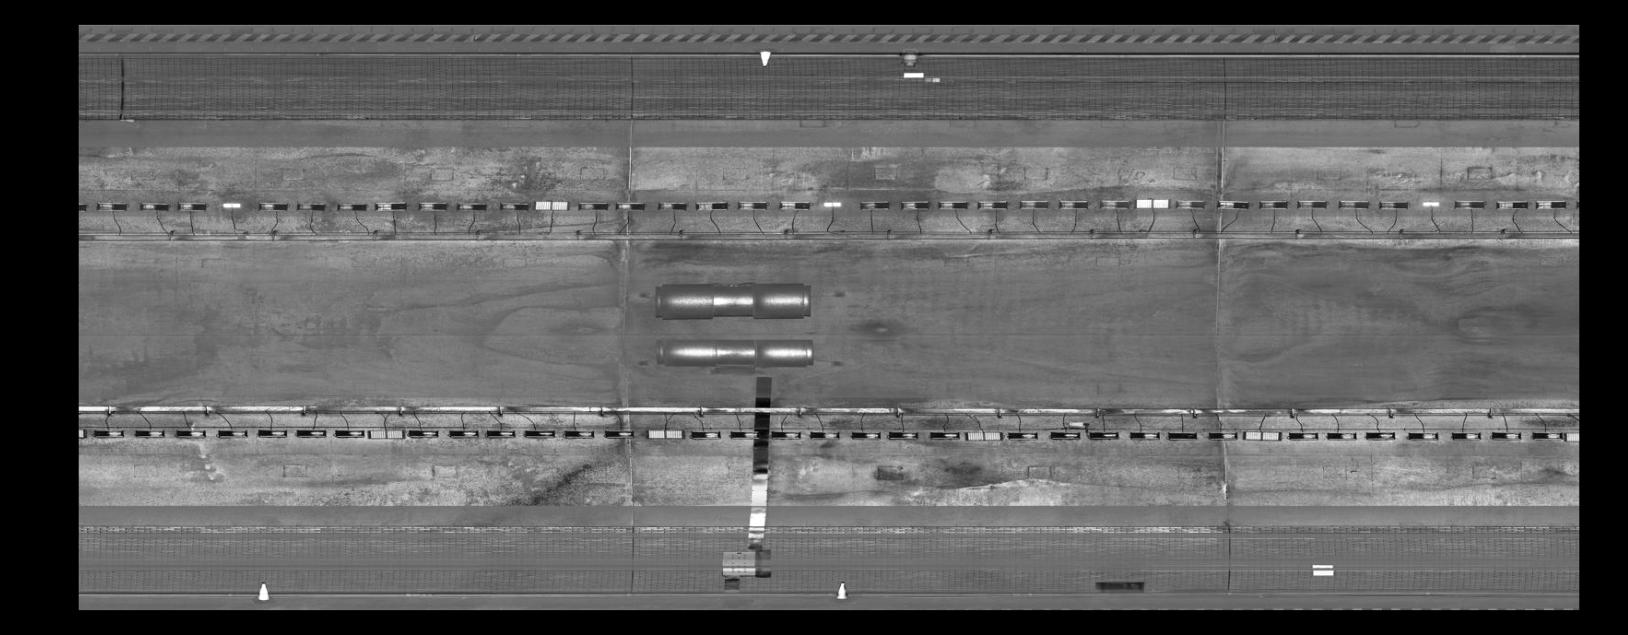light: (1241, 429, 1284, 443), (962, 429, 1004, 443), (643, 427, 685, 441), (370, 199, 409, 214), (367, 427, 407, 441), (1095, 196, 1133, 211), (533, 199, 571, 213), (885, 427, 920, 442), (1086, 427, 1121, 442), (1134, 197, 1171, 211), (691, 199, 731, 212), (574, 199, 610, 213), (1164, 429, 1200, 442), (973, 198, 1011, 211), (454, 199, 489, 213), (1335, 197, 1371, 211), (726, 427, 761, 441), (925, 427, 960, 441), (1205, 427, 1241, 441), (1215, 198, 1252, 211), (1323, 430, 1360, 442), (1360, 429, 1398, 441), (1404, 430, 1441, 442), (1448, 430, 1486, 442), (1488, 429, 1525, 441), (334, 200, 369, 214), (1492, 199, 1532, 211), (768, 429, 803, 442), (1054, 198, 1090, 211), (89, 426, 126, 439), (175, 199, 209, 213), (415, 199, 449, 213), (613, 199, 648, 212), (654, 199, 689, 212), (1295, 198, 1330, 211), (1005, 430, 1040, 442), (1046, 430, 1081, 442), (94, 199, 129, 212), (293, 200, 327, 213), (497, 200, 532, 213), (898, 199, 932, 212), (1017, 198, 1052, 211), (1173, 198, 1208, 211), (130, 427, 167, 439), (332, 426, 367, 439), (559, 427, 596, 439), (603, 427, 637, 440), (807, 429, 841, 441), (254, 200, 291, 212), (734, 199, 770, 211), (857, 199, 893, 211), (1451, 199, 1488, 211), (1534, 199, 1570, 211), (172, 427, 209, 439), (214, 427, 250, 439), (293, 427, 329, 439), (521, 427, 558, 439), (1255, 198, 1288, 211), (688, 429, 722, 441), (848, 429, 881, 441), (1286, 431, 1320, 443), (136, 200, 171, 212), (777, 199, 812, 211), (934, 199, 970, 211), (255, 427, 291, 439), (405, 427, 440, 439), (1127, 430, 1162, 441), (1528, 430, 1564, 441), (1376, 199, 1410, 211), (447, 427, 481, 439), (484, 427, 516, 438), (217, 199, 244, 211), (1417, 199, 1444, 209), (821, 199, 844, 210), (1564, 431, 1579, 442), (79, 199, 89, 213), (79, 424, 87, 441)
